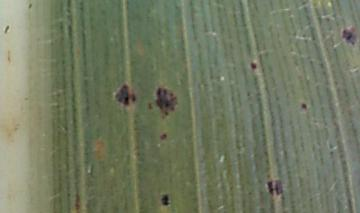tarspot: (156, 87, 179, 115), (340, 27, 359, 47), (114, 84, 130, 106), (274, 179, 284, 196), (161, 194, 170, 206), (267, 182, 275, 194), (300, 102, 308, 112), (131, 92, 137, 103), (251, 62, 257, 72), (159, 133, 167, 140), (147, 103, 153, 112)
